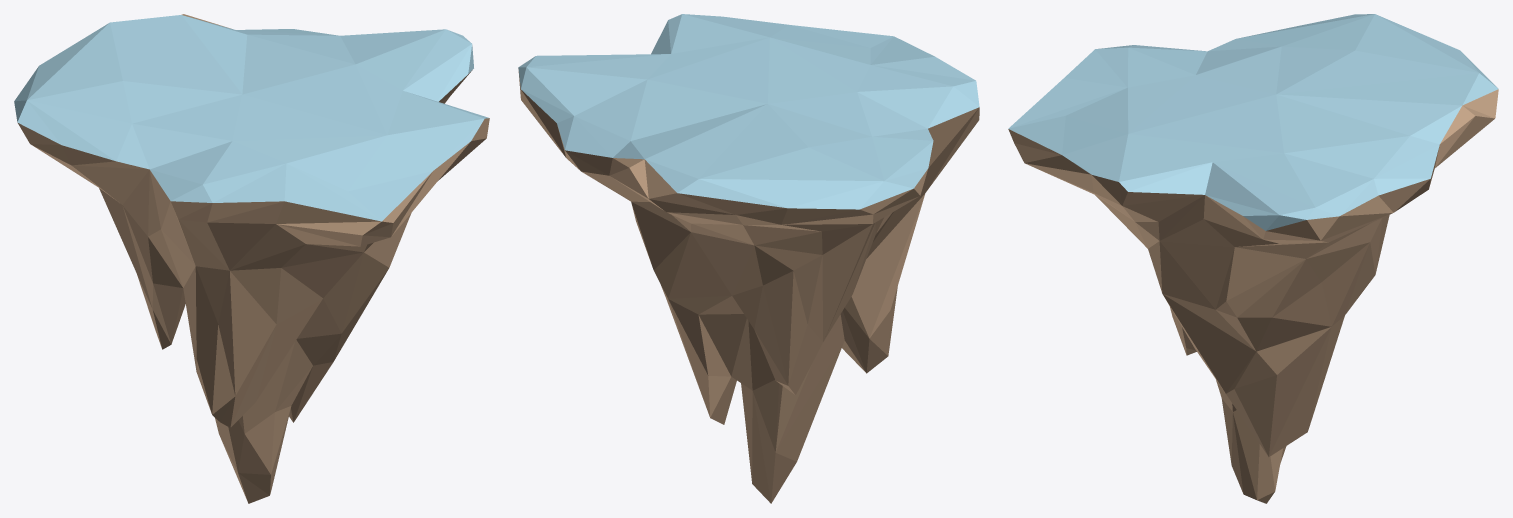
File: island3_Blue.fbx
3 views of the same model, side by side, from view 1: azimuth 30°, elevation 25°; view 2: azimuth 150°, elevation 25°; view 3: azimuth 270°, elevation 25° (orthographic).
Parts seen in each view (by area): view 1: island3; view 2: island3; view 3: island3.
Part boxes in pixels (x1,y1,x2,y2): island3: (14,14,489,503); island3: (518,14,979,503); island3: (1008,14,1498,503).
Size of the model in its own units: 27.59 by 25.77 by 27.62.
